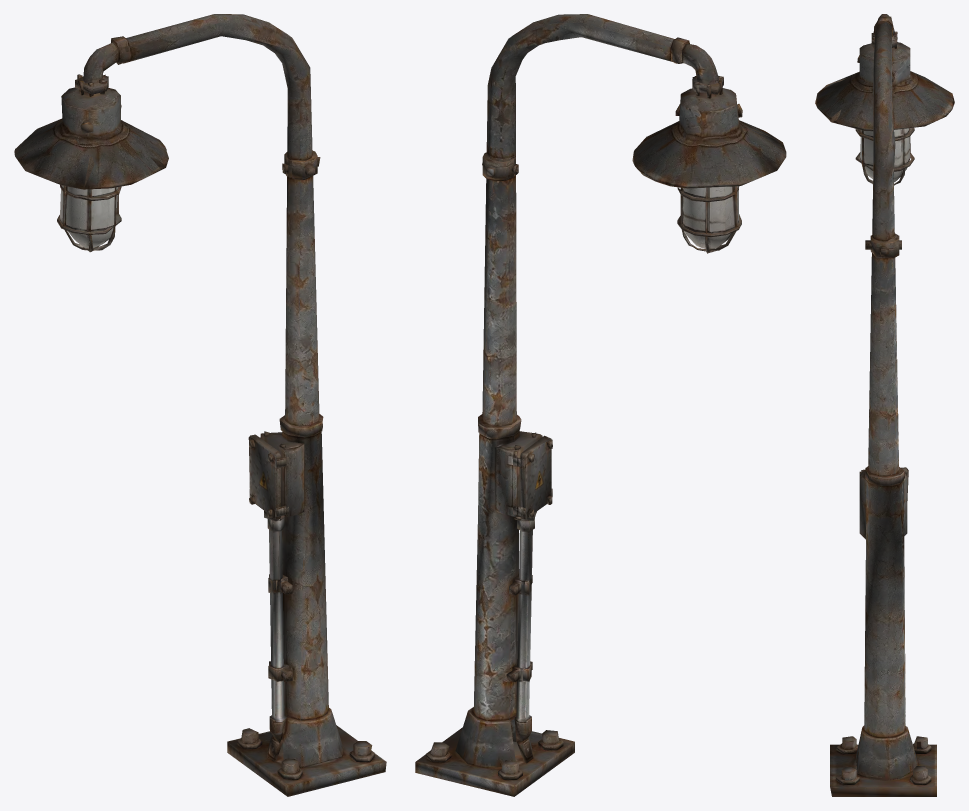
Rendered from street_lamp_junkyard.glb.
The picture shows the model from 3 angles, left to right: view 1: azimuth 30°, elevation 25°; view 2: azimuth 150°, elevation 25°; view 3: azimuth 270°, elevation 25°; orthographic projection. The views are drawn at different scales.
Visible parts, largest first — view 1: Meshy_AI_street_lamp_junkyard_3d_20261028_texture; view 2: Meshy_AI_street_lamp_junkyard_3d_20261028_texture; view 3: Meshy_AI_street_lamp_junkyard_3d_20261028_texture.
Part boxes in pixels (left/top/right/bottom): Meshy_AI_street_lamp_junkyard_3d_20261028_texture: left=14, top=14, right=386, bottom=796; Meshy_AI_street_lamp_junkyard_3d_20261028_texture: left=415, top=14, right=786, bottom=796; Meshy_AI_street_lamp_junkyard_3d_20261028_texture: left=815, top=14, right=954, bottom=796.
Size of the model in its own units: 2.7 by 6 by 1.12.
1 material, 1 textured.
